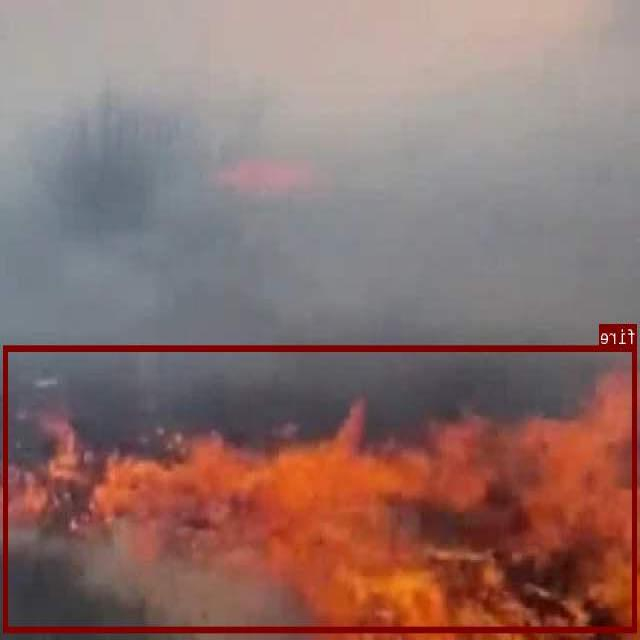fire: (5, 344, 638, 632)
